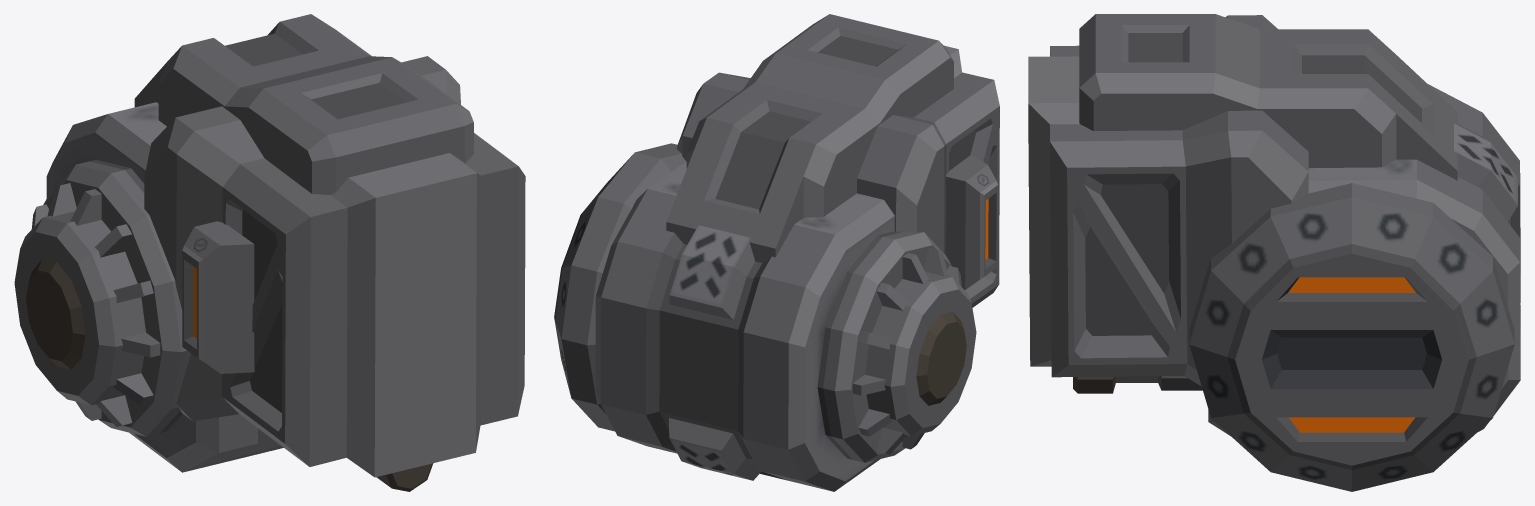
File: SM_Mech_Shoulder_01_Frame_01.fbx
3 renders of one model, left to right at view 1: azimuth 30°, elevation 25°; view 2: azimuth 150°, elevation 25°; view 3: azimuth 270°, elevation 25°, orthographic. The views are drawn at different scales.
Visible parts, largest first — view 1: SM_Mech_Shoulder_01_Frame_01; view 2: SM_Mech_Shoulder_01_Frame_01; view 3: SM_Mech_Shoulder_01_Frame_01.
Part boxes in pixels (x1=…): SM_Mech_Shoulder_01_Frame_01: x1=14, y1=14, x2=525, y2=491; SM_Mech_Shoulder_01_Frame_01: x1=554, y1=14, x2=999, y2=491; SM_Mech_Shoulder_01_Frame_01: x1=1028, y1=14, x2=1520, y2=491.
Bounding box in the file's own units: 61.94 × 59.31 × 70.43.
